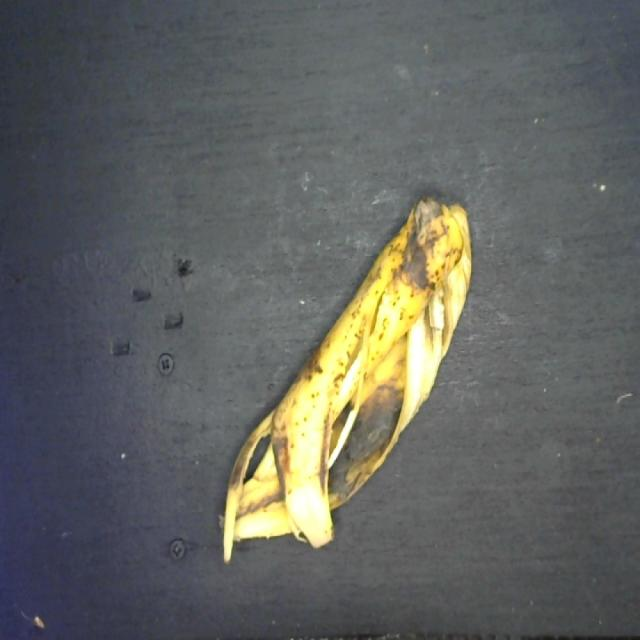biodegradable: (218, 185, 477, 568)
